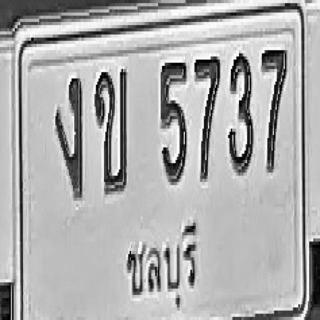A02: (94, 68, 128, 193)
A07: (55, 75, 83, 198)
N03: (227, 50, 253, 172)
N05: (160, 58, 187, 184)
N07: (261, 47, 287, 172), (194, 55, 220, 180)
P13: (122, 218, 203, 313)
